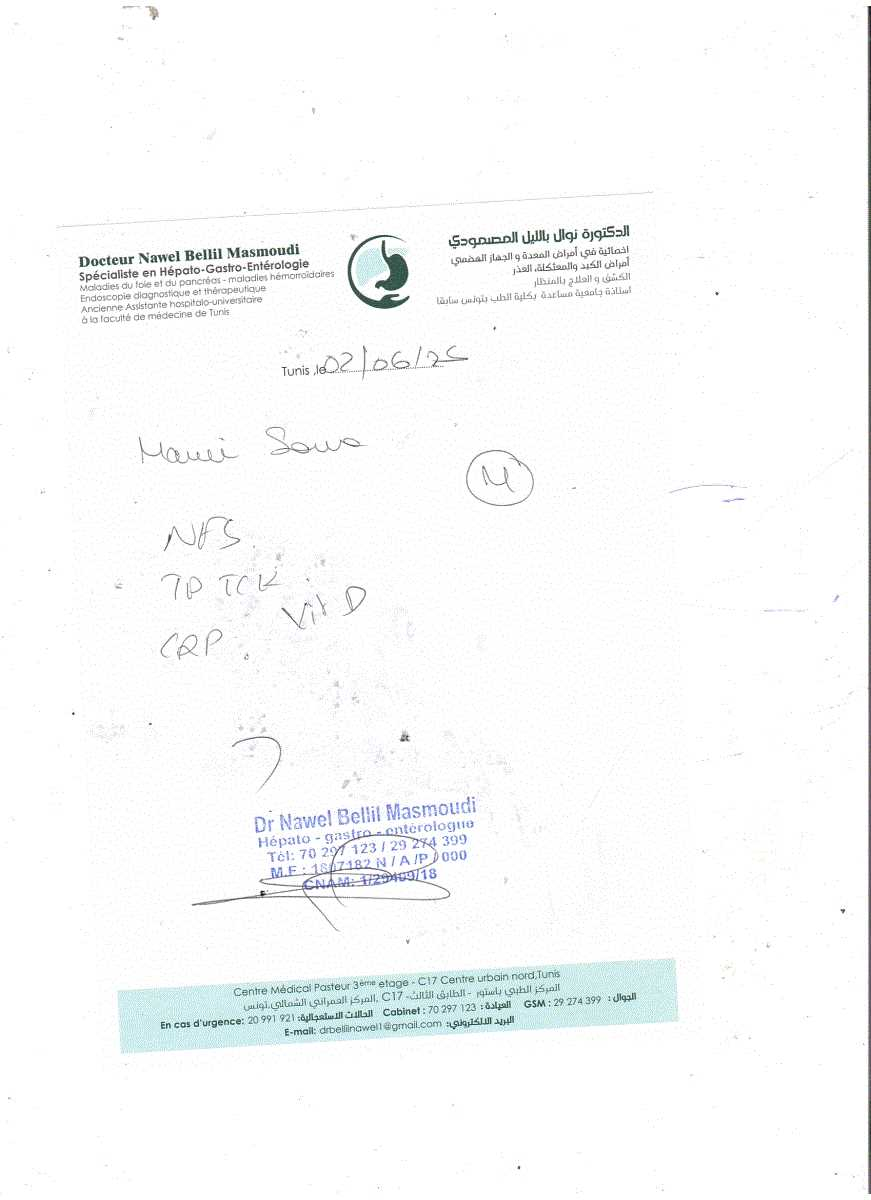zone_analyses: (129, 502, 399, 673)
zone_cachet: (221, 812, 502, 908)
zone_commentaires: (320, 344, 511, 385)
zone_date: (124, 427, 389, 473)
zone_patient: (58, 243, 344, 331)
